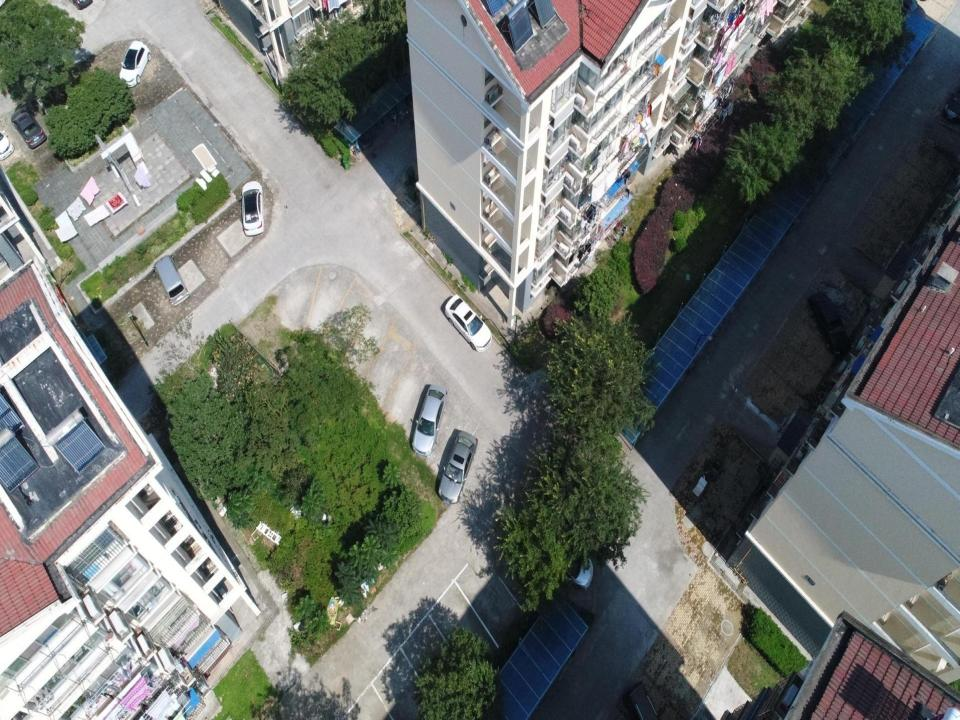car: (436, 430, 478, 505), (808, 289, 851, 357), (412, 380, 446, 458), (446, 294, 491, 352), (540, 548, 592, 592), (11, 106, 46, 149), (120, 40, 151, 86), (240, 180, 265, 235), (944, 86, 959, 123)
van: (154, 254, 189, 308), (624, 682, 659, 720)
